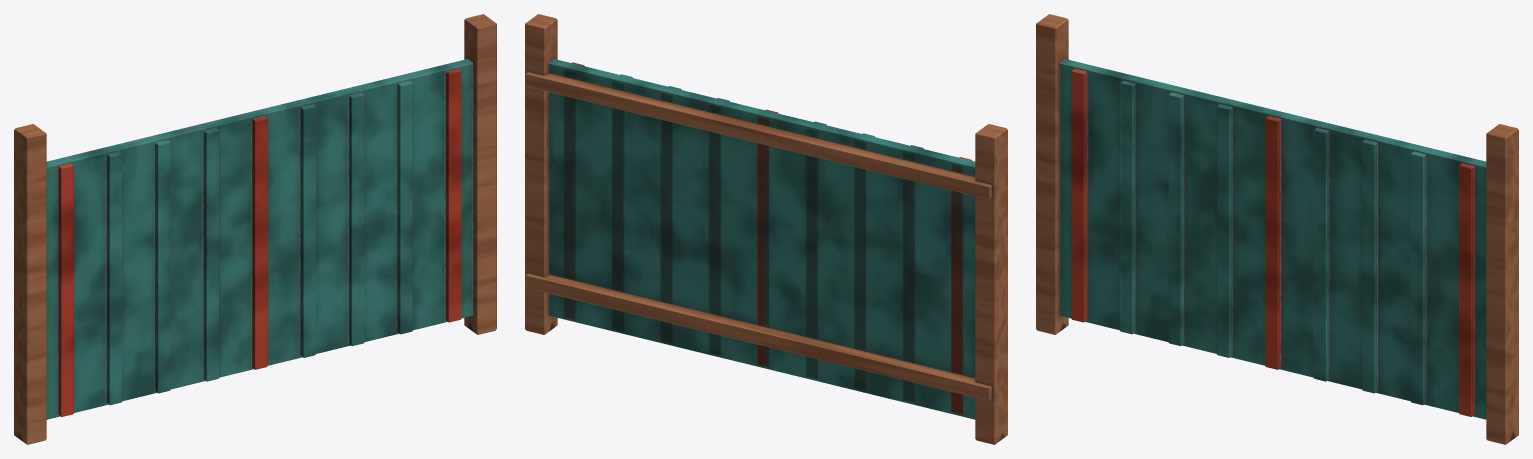
The model's file is fence_corrugated.glb.
3 views of the same model, side by side, from view 1: azimuth 30°, elevation 25°; view 2: azimuth 150°, elevation 25°; view 3: azimuth 330°, elevation 25° (orthographic).
Visible parts, largest first — view 1: FenceCorrugated; view 2: FenceCorrugated; view 3: FenceCorrugated.
Boxes of the visible parts, left/top/right/bottom form: FenceCorrugated: left=14, top=14, right=496, bottom=444; FenceCorrugated: left=525, top=14, right=1007, bottom=444; FenceCorrugated: left=1036, top=14, right=1518, bottom=444.
Bounding box in the file's own units: 3.6 × 2.25 × 0.2101.
Materials: 1 (1 with a texture image).
